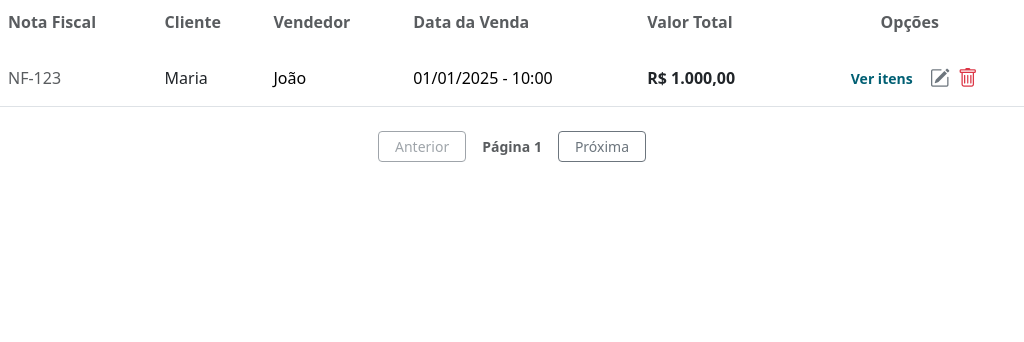
it: SalesTable › deve expandir os itens da venda
The image size is (1024, 342).
Click the button "Ver itens": point(882, 78) [842, 62, 922, 94]
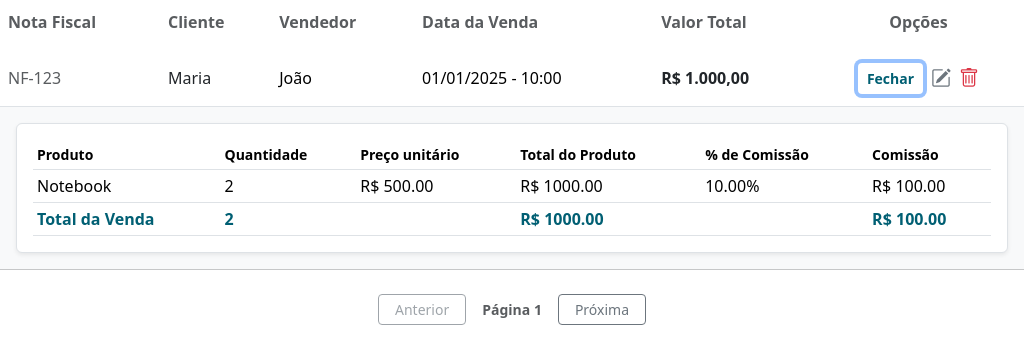
Result: the text "Notebook" is shown at [33, 170, 220, 202]
Result: the column heading "Preço unitário" is shown at [356, 140, 516, 170]
Result: the column heading "% de Comissão" is shown at [701, 140, 868, 170]
